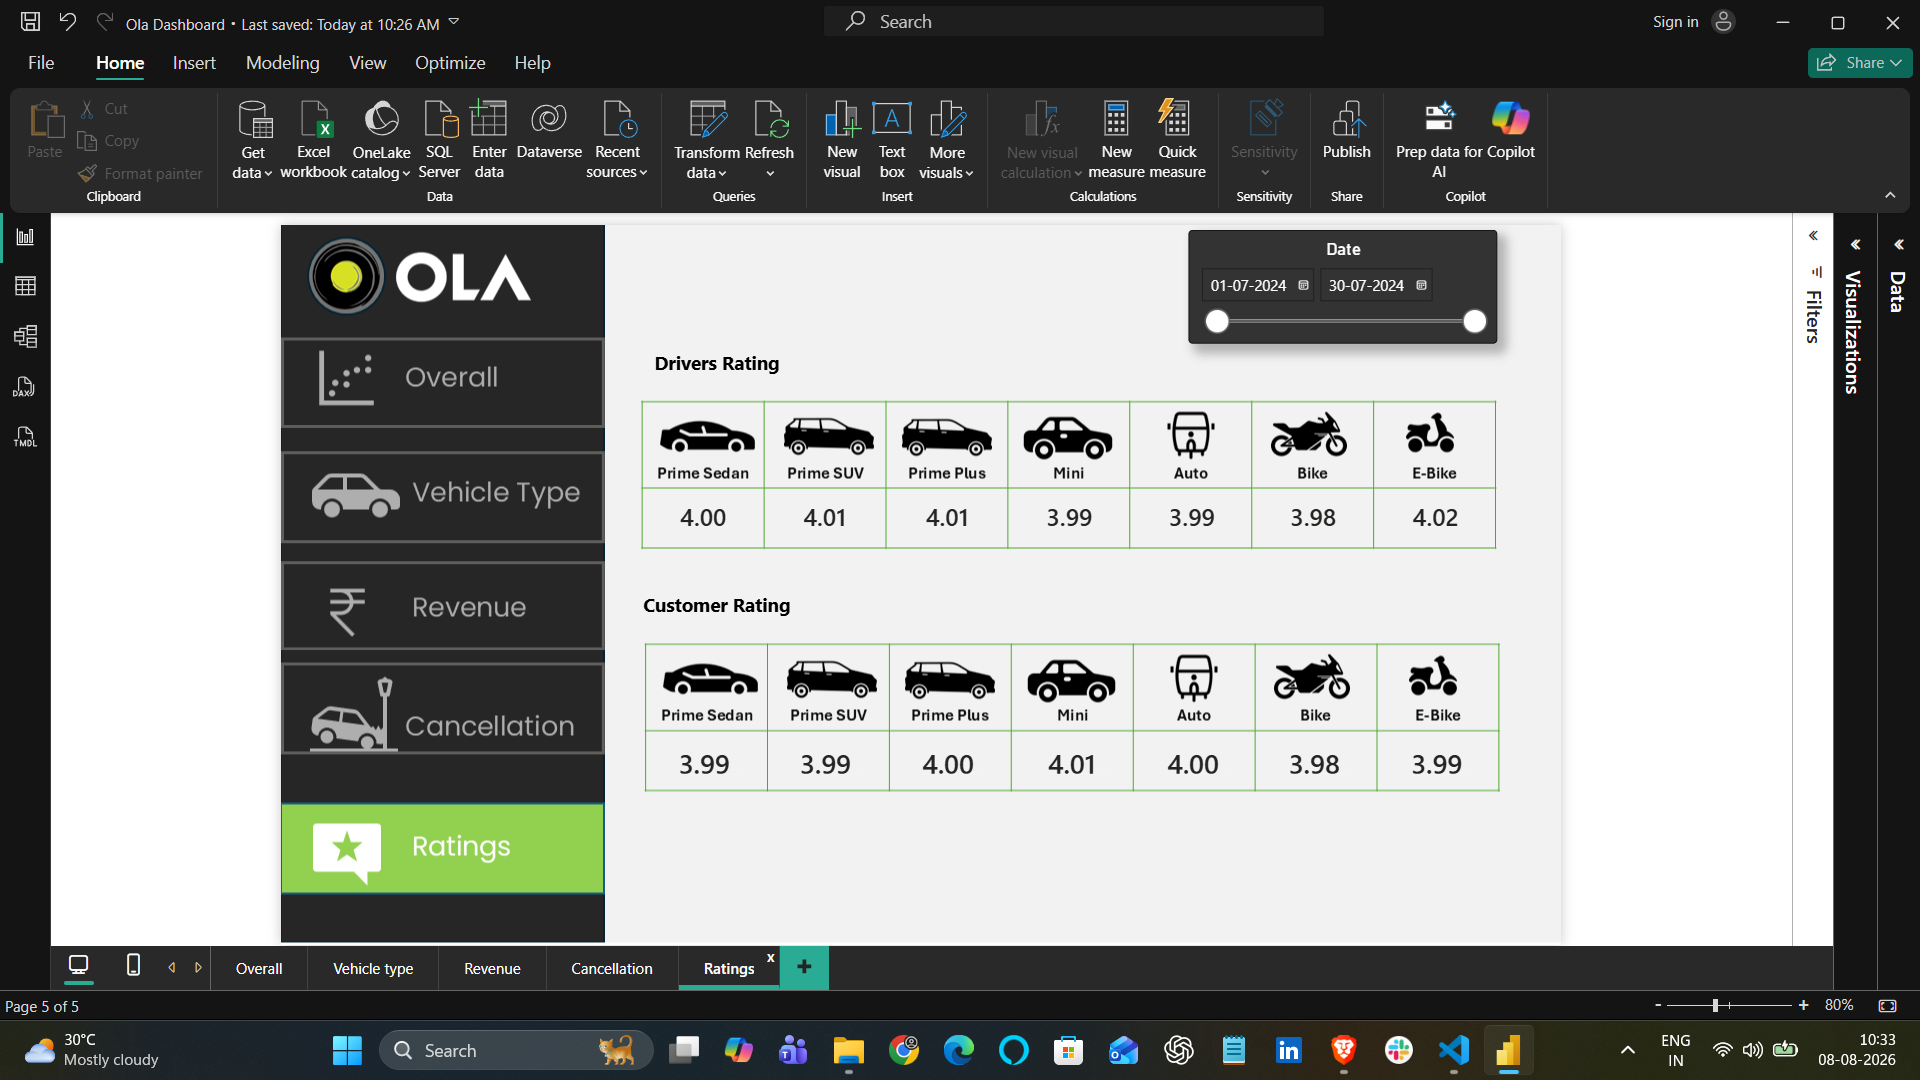

Layout of this report page (visuals, bound fields, positions):
{"tool":"powerbi","page":{"name":"Ratings","canvas":[1280,720],"ordinal":4},"visuals":[{"type":"actionButton","box":[0,226.4,323.8,91.9],"z":0},{"type":"actionButton","box":[0,112.5,323.8,90.6],"z":1000},{"type":"actionButton","box":[0,336.2,323.8,89.2],"z":2000},{"type":"actionButton","box":[0,437.7,323.8,91.9],"z":3000},{"type":"textbox","box":[360.9,119.4,149.6,38.4],"z":4000},{"type":"textbox","box":[348.5,362.3,174.3,38.4],"z":5000},{"type":"cardVisual","fields":{"Data":["Avg(July.Driver_Ratings)"]},"box":[360.9,262.1,122.1,56.3],"z":6000},{"type":"cardVisual","fields":{"Data":["Avg(July.Driver_Ratings)"]},"box":[483,262.1,122.1,56.3],"z":7000},{"type":"cardVisual","fields":{"Data":["Avg(July.Driver_Ratings)"]},"box":[605.1,262.1,122.1,56.3],"z":8000},{"type":"cardVisual","fields":{"Data":["Avg(July.Driver_Ratings)"]},"box":[727.3,262.1,122.1,56.3],"z":9000},{"type":"cardVisual","fields":{"Data":["Avg(July.Driver_Ratings)"]},"box":[849.4,262.1,122.1,56.3],"z":10000},{"type":"cardVisual","fields":{"Data":["Avg(July.Driver_Ratings)"]},"box":[971.5,262.1,122.1,56.3],"z":11000},{"type":"cardVisual","fields":{"Data":["Avg(July.Driver_Ratings)"]},"box":[1093.7,262.1,122.1,56.3],"z":12000},{"type":"cardVisual","fields":{"Data":["Avg(July.Customer_Rating)"]},"box":[360.9,503.6,122.1,63.1],"z":13000},{"type":"cardVisual","fields":{"Data":["Avg(July.Customer_Rating)"]},"box":[483,503.6,122.1,63.1],"z":14000},{"type":"cardVisual","fields":{"Data":["Avg(July.Customer_Rating)"]},"box":[605.1,503.6,122.1,63.1],"z":15000},{"type":"cardVisual","fields":{"Data":["Avg(July.Customer_Rating)"]},"box":[728.6,503.6,122.1,63.1],"z":16000},{"type":"cardVisual","fields":{"Data":["Avg(July.Customer_Rating)"]},"box":[849.4,503.6,122.1,63.1],"z":17000},{"type":"cardVisual","fields":{"Data":["Avg(July.Customer_Rating)"]},"box":[971.5,503.6,122.1,63.1],"z":18000},{"type":"cardVisual","fields":{"Data":["Avg(July.Customer_Rating)"]},"box":[1093.7,503.6,122.1,63.1],"z":19000},{"type":"slicer","title":"Date","fields":{"Values":["July.Date"]},"box":[907,5.5,308.7,113.9],"z":20000}]}

Visuals, with their boxes on the page's 1280x720 design canvas (x1, y1, x2, y2). These are canvas units, not pixel positions in the 1920x1080 screenshot, which may show the page scaled, cropped or inside an application window:
actionButton: crop(0, 226, 324, 318)
actionButton: crop(0, 112, 324, 203)
actionButton: crop(0, 336, 324, 425)
actionButton: crop(0, 438, 324, 530)
textbox: crop(361, 119, 510, 158)
textbox: crop(348, 362, 523, 401)
cardVisual - Avg(July.Driver_Ratings): crop(361, 262, 483, 318)
cardVisual - Avg(July.Driver_Ratings): crop(483, 262, 605, 318)
cardVisual - Avg(July.Driver_Ratings): crop(605, 262, 727, 318)
cardVisual - Avg(July.Driver_Ratings): crop(727, 262, 849, 318)
cardVisual - Avg(July.Driver_Ratings): crop(849, 262, 972, 318)
cardVisual - Avg(July.Driver_Ratings): crop(972, 262, 1094, 318)
cardVisual - Avg(July.Driver_Ratings): crop(1094, 262, 1216, 318)
cardVisual - Avg(July.Customer_Rating): crop(361, 504, 483, 567)
cardVisual - Avg(July.Customer_Rating): crop(483, 504, 605, 567)
cardVisual - Avg(July.Customer_Rating): crop(605, 504, 727, 567)
cardVisual - Avg(July.Customer_Rating): crop(729, 504, 851, 567)
cardVisual - Avg(July.Customer_Rating): crop(849, 504, 972, 567)
cardVisual - Avg(July.Customer_Rating): crop(972, 504, 1094, 567)
cardVisual - Avg(July.Customer_Rating): crop(1094, 504, 1216, 567)
"Date" slicer: crop(907, 6, 1216, 119)
